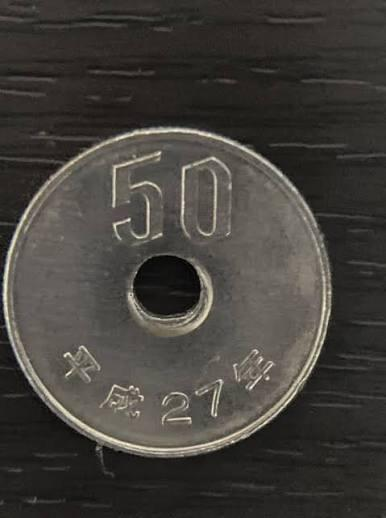year: (61, 333, 282, 454)
